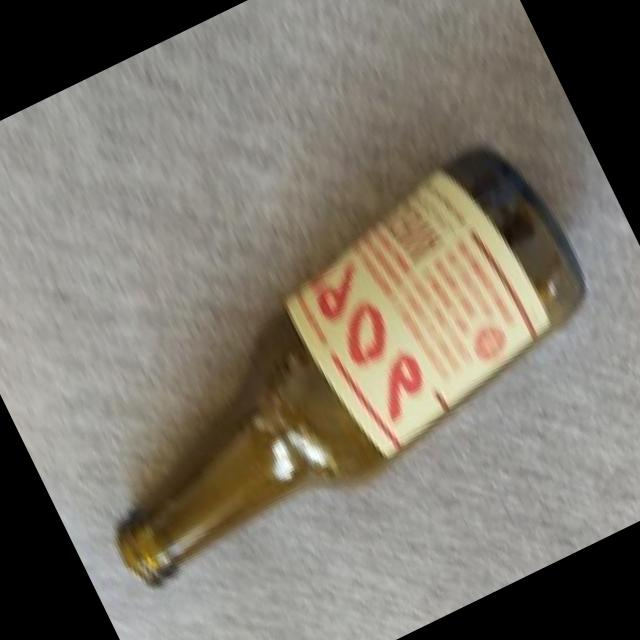BotolKaca: (26, 128, 630, 602)
